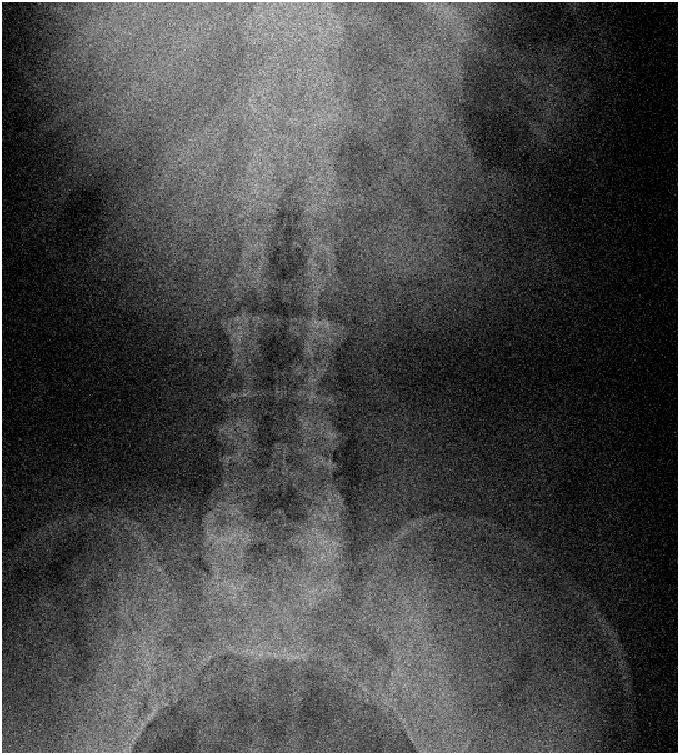lumbar scoliosis: (203, 228, 370, 569)
